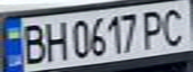0: (69, 16, 90, 60)
1: (106, 11, 127, 55)
6: (87, 14, 109, 56)
7: (118, 10, 142, 53)
B: (18, 20, 48, 65)
C: (157, 3, 193, 47)
H: (39, 18, 69, 63)
P: (139, 7, 169, 50)
